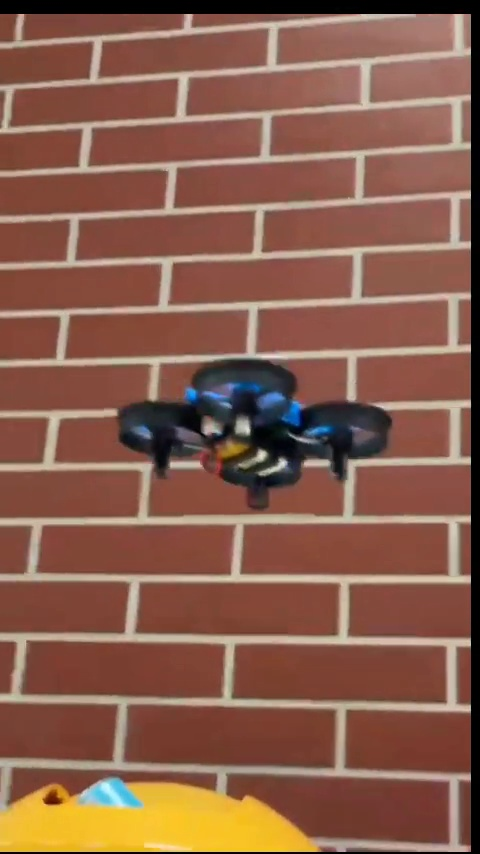drone: (109, 353, 384, 510)
